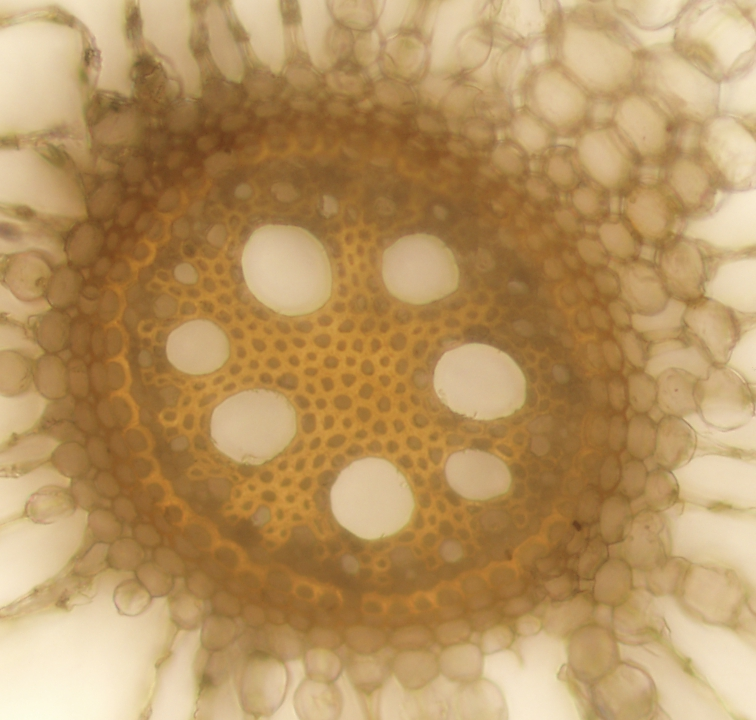lm: (242, 224, 334, 316), (432, 341, 527, 419), (328, 456, 415, 539), (210, 388, 299, 463), (381, 233, 459, 306), (444, 446, 513, 501), (164, 317, 230, 374)
